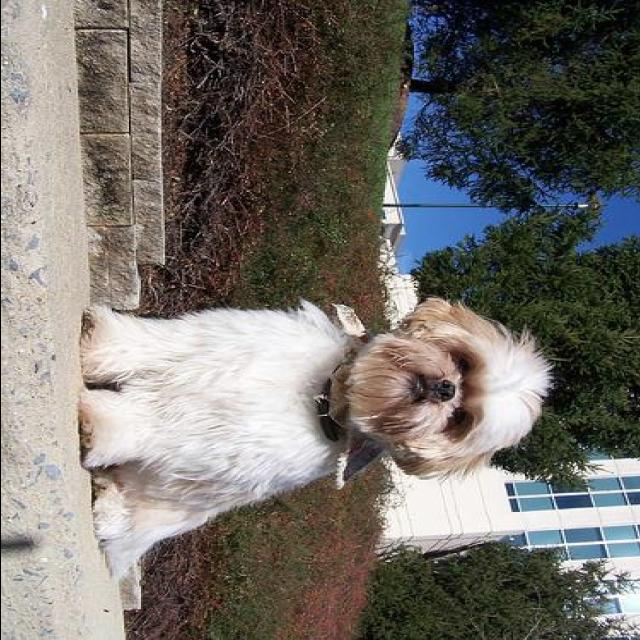shih_tzu: (75, 297, 553, 577)
